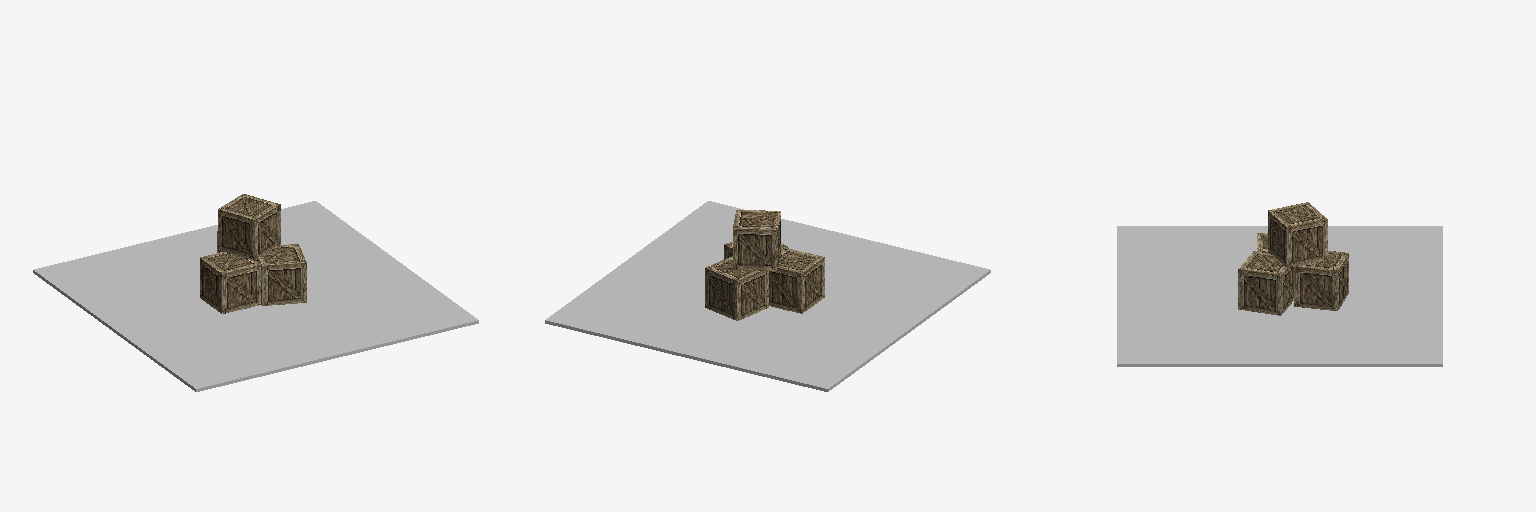
3 renders of one model, left to right at view 1: azimuth 30°, elevation 25°; view 2: azimuth 150°, elevation 25°; view 3: azimuth 270°, elevation 25°, orthographic.
Parts seen in each view (by area): view 1: Cube.004_Cube.002, Cube.002_Cube.001, Cube_Cube.001, Cube.001; view 2: Cube.004_Cube.002, Cube.003_Cube.001, Cube_Cube.001, Cube.002_Cube.001; view 3: Cube.004_Cube.002, Cube.002_Cube.001, Cube.001, Cube.003_Cube.001.
Part boxes in pixels (x1,y1,x2,y2): Cube.004_Cube.002: (33, 201, 478, 391); Cube.002_Cube.001: (218, 194, 280, 260); Cube_Cube.001: (200, 252, 260, 313); Cube.001: (256, 244, 306, 305); Cube.004_Cube.002: (545, 201, 990, 391); Cube.003_Cube.001: (705, 256, 768, 320); Cube_Cube.001: (769, 248, 824, 313); Cube.002_Cube.001: (733, 210, 780, 270); Cube.004_Cube.002: (1117, 226, 1442, 366); Cube.002_Cube.001: (1268, 202, 1327, 267); Cube.001: (1238, 251, 1293, 315); Cube.003_Cube.001: (1294, 251, 1348, 310).
Size of the model in its own units: 14.43 by 4.11 by 14.43.
2 materials, 1 textured.